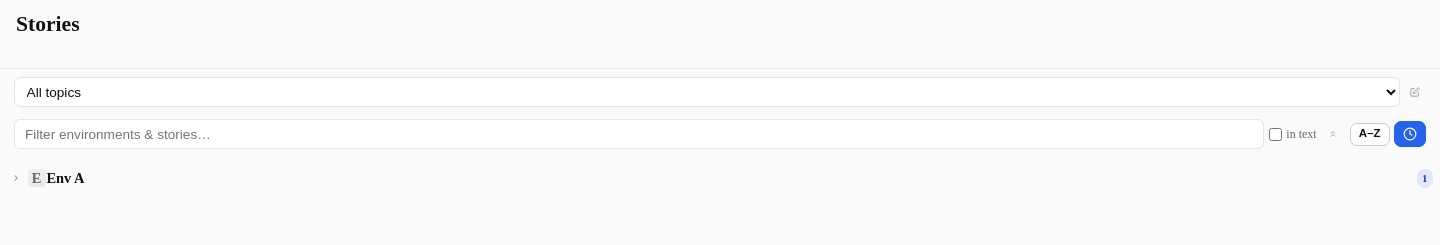
Scenario: SideBarComponent › inline chat-title editing › types into the input (inserting text) and saves with Enter
Click the button with class "expand-btn" at (16, 178), box [5,167,27,189]
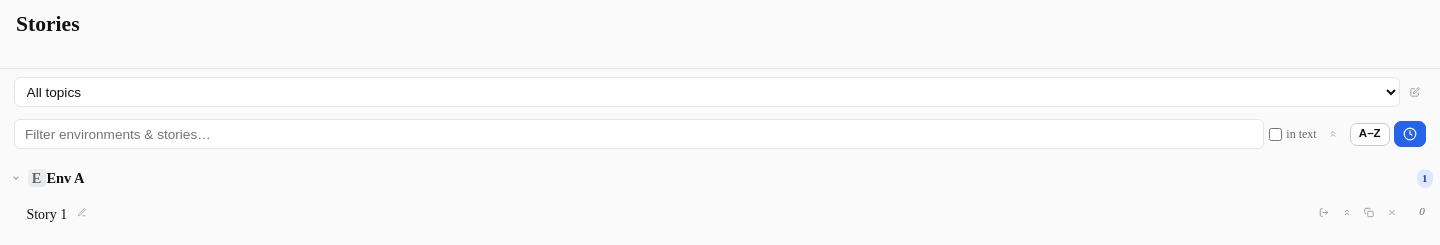
Click the button named "Rename story" at (82, 212), box [71,201,93,223]
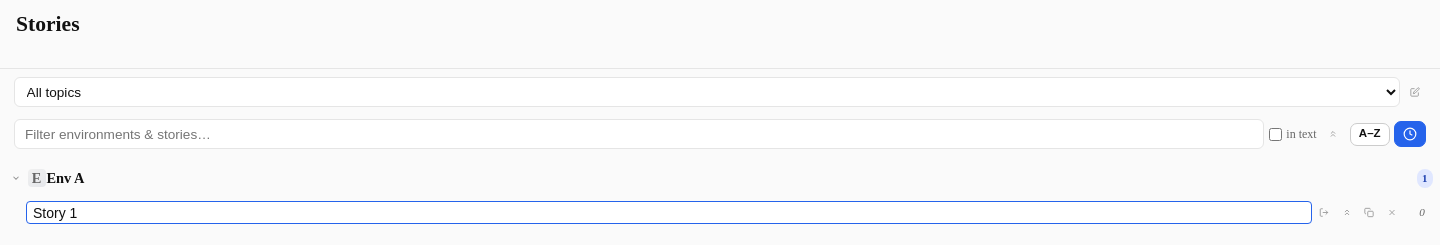
Replace the text in the field with class "chat-title-input" with "Renamed Story" at (669, 213), box [26,201,1312,224]
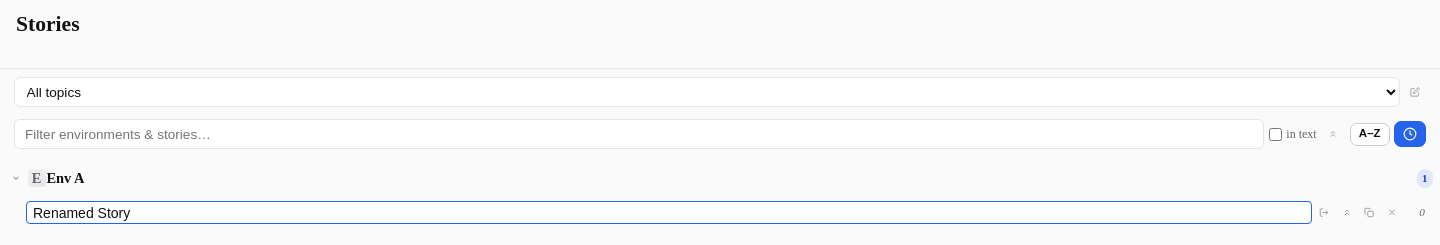
Press Enter in the field with class "chat-title-input", box [26,201,1312,224]
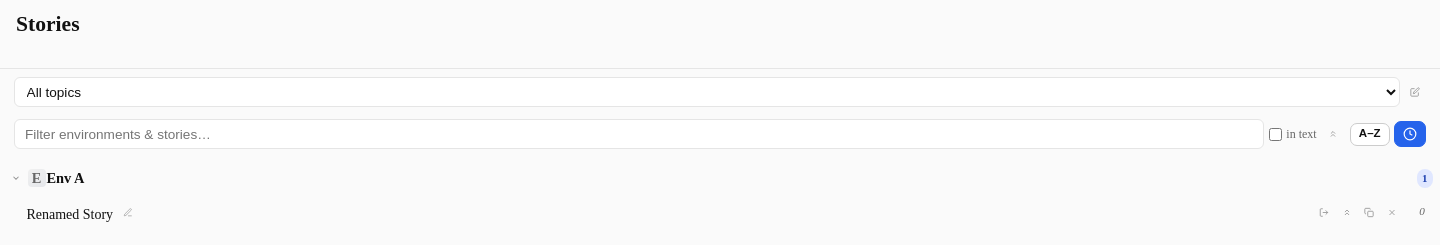
Expected: the element with class "chat-item" is shown, [18,196,1434,228]
Expected: the element showing "Renamed Story" reads "Renamed Story", [26,207,117,222]
